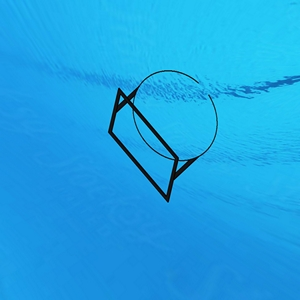circle: (107, 68, 221, 204)
